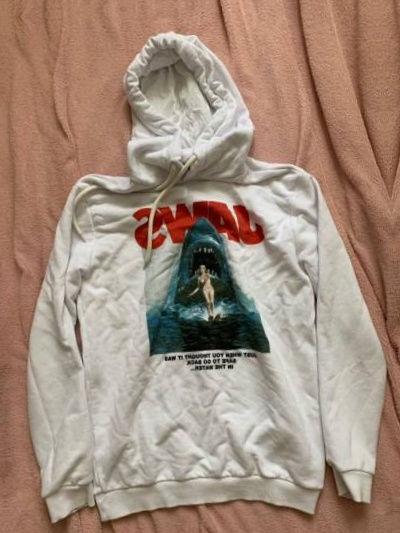Hoodie: (0, 20, 392, 533)
